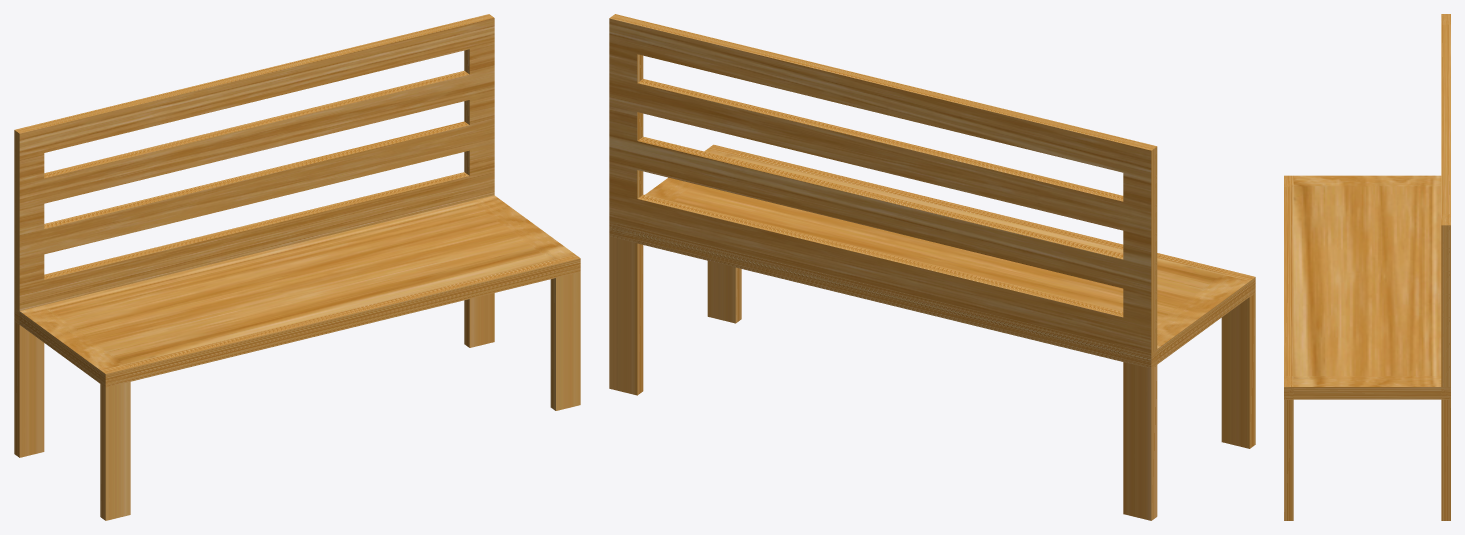
Rendered from BasicBench4.fbx.
3 views of the same model, side by side, from view 1: azimuth 30°, elevation 25°; view 2: azimuth 150°, elevation 25°; view 3: azimuth 270°, elevation 25° (orthographic). The views are drawn at different scales.
Visible parts, largest first — view 1: pCube2; view 2: pCube2; view 3: pCube2.
Boxes of the visible parts, x1,y1,x2,y2 form: pCube2: (14,14,580,520); pCube2: (609,14,1255,520); pCube2: (1284,14,1450,520).
Bounding box in the file's own units: 1.85 × 1.21 × 0.6157.
Materials: 1 (1 with a texture image).
